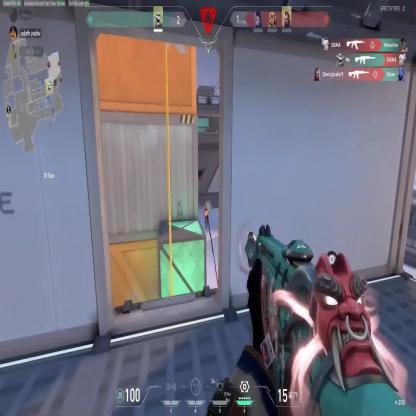enemy: (204, 203, 210, 228)
enemy_head: (206, 204, 209, 212)
